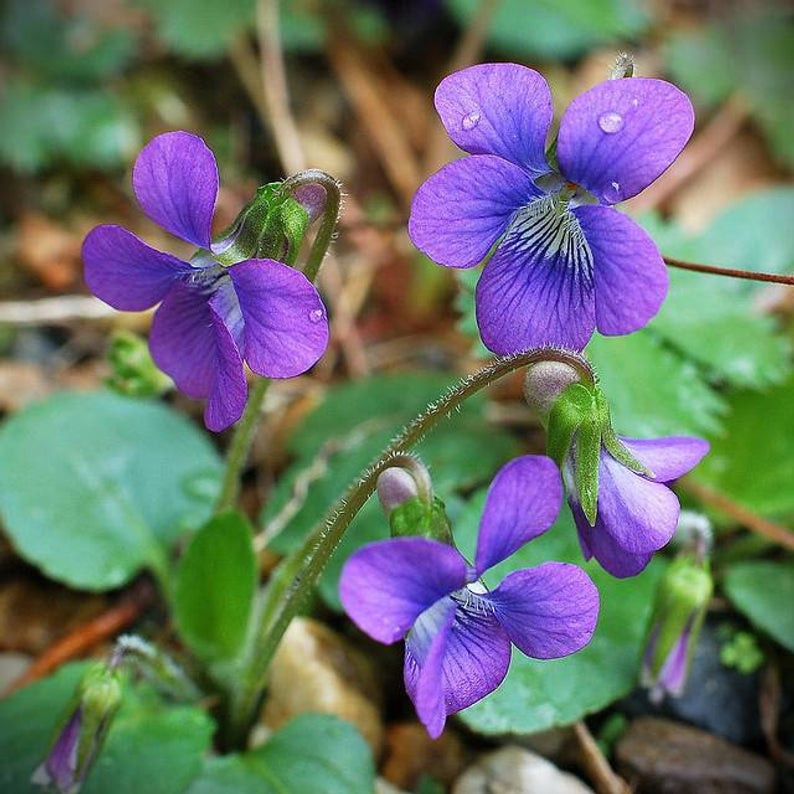violet: (67, 116, 347, 412), (411, 45, 681, 346), (312, 458, 616, 720)
